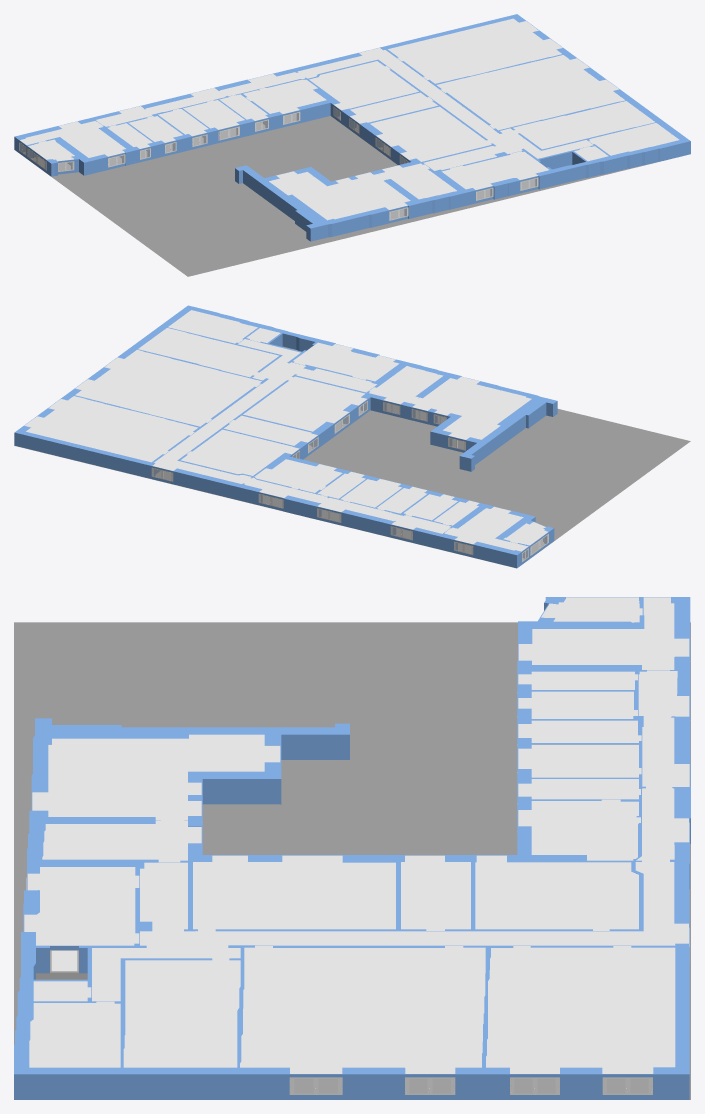
File: 2ndfloor.obj
3 views of the same model, one above another, from view 1: azimuth 30°, elevation 25°; view 2: azimuth 150°, elevation 25°; view 3: azimuth 270°, elevation 25° (orthographic). The views are drawn at different scales.
Parts seen in each view (by area): view 1: ground_1, room_1102_6440, room_1105_6446, room_1104_6444, room_1097_6430, room_1096_6428, room_1103_6442, room_1094_6424, room_1099_6434, room_1092_6420, room_1086_6408, room_1101_6438 (+13 smaller); view 2: ground_1, room_1102_6440, room_1105_6446, room_1104_6444, room_1097_6430, room_1096_6428, room_1103_6442, room_1094_6424, room_1099_6434, wall_420_2518, room_1092_6420, room_1086_6408 (+15 smaller); view 3: ground_1, room_1102_6440, room_1105_6446, room_1104_6444, room_1097_6430, room_1096_6428, room_1103_6442, room_1094_6424, room_1099_6434, wall_216_1295, room_1092_6420, room_1086_6408 (+25 smaller).
Boxes of the visible parts, <box> form: ground_1: <box>19,116,659,276</box>; room_1102_6440: <box>437,55,624,130</box>; room_1105_6446: <box>96,48,593,170</box>; room_1104_6444: <box>388,18,562,83</box>; room_1097_6430: <box>269,171,410,220</box>; room_1096_6428: <box>370,106,491,161</box>; room_1103_6442: <box>513,101,654,149</box>; room_1094_6424: <box>309,61,418,110</box>; room_1099_6434: <box>441,151,548,189</box>; room_1092_6420: <box>20,121,125,157</box>; room_1086_6408: <box>243,79,326,113</box>; room_1101_6438: <box>589,123,679,155</box>; ground_1: <box>14,346,690,568</box>; room_1102_6440: <box>75,349,261,426</box>; room_1105_6446: <box>152,339,450,533</box>; room_1104_6444: <box>24,396,197,462</box>; room_1097_6430: <box>411,376,531,439</box>; room_1096_6428: <box>243,376,366,431</box>; room_1103_6442: <box>138,328,278,377</box>; room_1094_6424: <box>181,429,299,475</box>; room_1099_6434: <box>293,342,399,381</box>; wall_420_2518: <box>14,432,151,478</box>; room_1092_6420: <box>444,506,528,551</box>; room_1086_6408: <box>254,459,342,492</box>; ground_1: <box>14,622,690,1099</box>; room_1102_6440: <box>240,946,485,1073</box>; room_1105_6446: <box>92,671,689,1001</box>; room_1104_6444: <box>486,946,675,1073</box>; room_1097_6430: <box>32,734,280,819</box>; room_1096_6428: <box>193,855,395,930</box>; room_1103_6442: <box>123,958,240,1067</box>; room_1094_6424: <box>475,855,638,930</box>; room_1099_6434: <box>24,867,139,945</box>; wall_216_1295: <box>14,1074,289,1099</box>; room_1092_6420: <box>518,597,689,670</box>; room_1086_6408: <box>518,799,640,860</box>.
Bounding box in the file's own units: 10057 × 250 × 6024.
